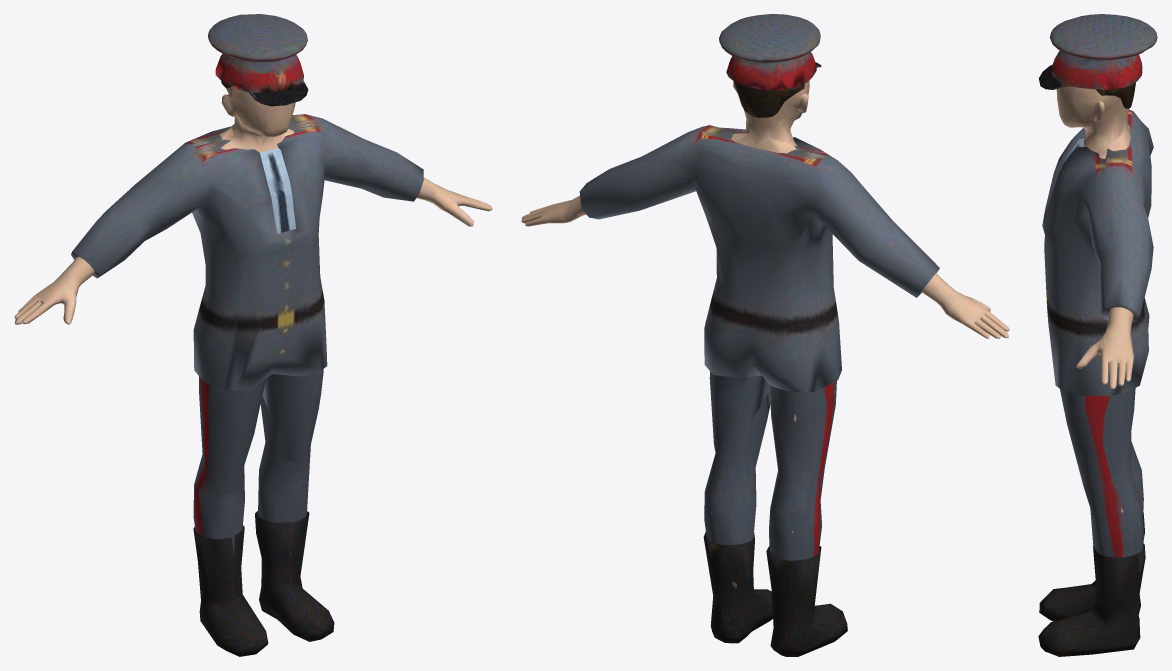
Rendered from npc_x_police1.glb.
3 renders of one model, left to right at view 1: azimuth 30°, elevation 25°; view 2: azimuth 150°, elevation 25°; view 3: azimuth 270°, elevation 25°, orthographic. The views are drawn at different scales.
Parts seen in each view (by area): view 1: Human; view 2: Human; view 3: Human.
Boxes of the visible parts, box(x1,y1,x2,y2) form: Human: box(14, 14, 492, 656); Human: box(521, 14, 1009, 656); Human: box(1038, 14, 1157, 656).
Size of the model in its own units: 1.54 by 1.85 by 0.3293.
Materials: 1 (1 with a texture image).
